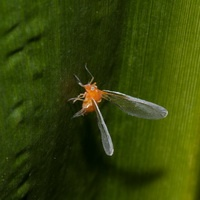insect: (68, 64, 167, 155)
